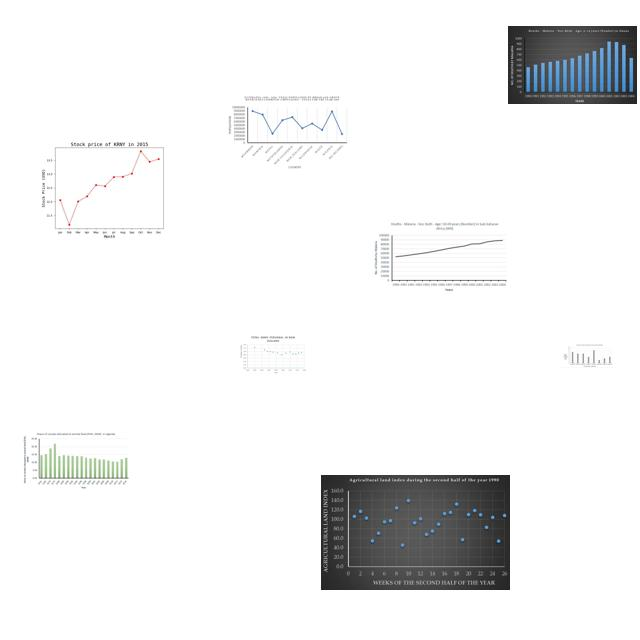Graph: (321, 475, 510, 590), (31, 135, 184, 240), (371, 220, 509, 294), (508, 26, 637, 104), (227, 95, 349, 169), (22, 430, 131, 491), (239, 335, 307, 374), (562, 344, 613, 368)
